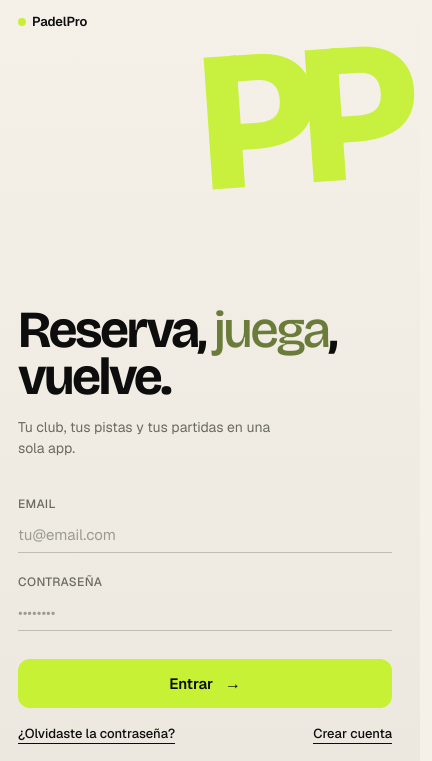
Test: LoginPage integration (T-031) — RED: fails until Oleada 3 › R-2.4 — shows "Tu cuenta aún no está activada" on 403 ACCOUNT_NOT_ACTIVE
Type "inactive@test.com" into the field labelled "Email" at (205, 534), box [18,516,392,552]
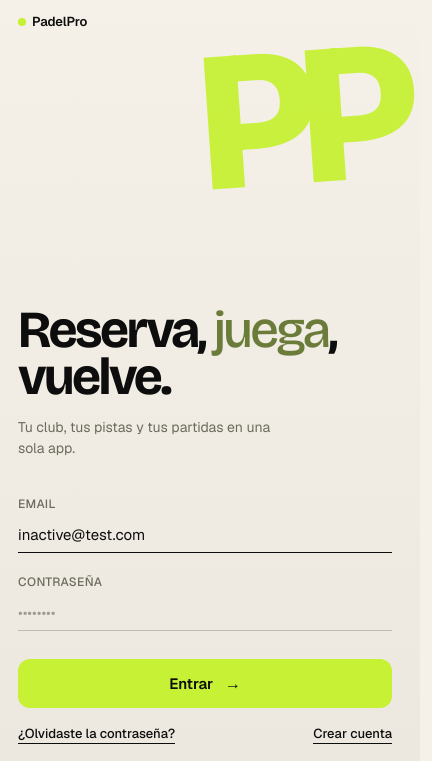
Type "Password1" into the password field labelled "Contraseña" at (205, 612), box [18,594,392,630]
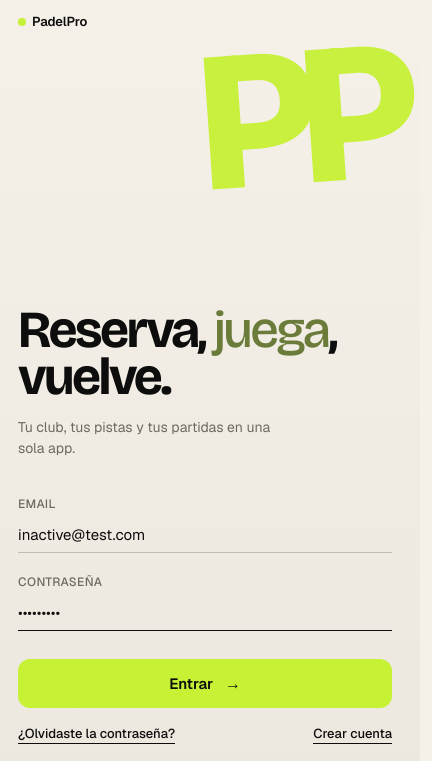
Click the button "Entrar →" at (205, 683), box [18,658,392,708]
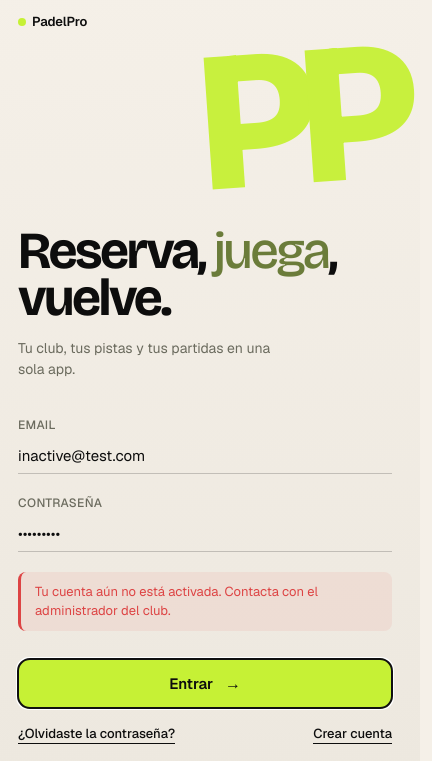
Expected: the message shows "Tu cuenta aún no está activada", [35,582,318,619]
